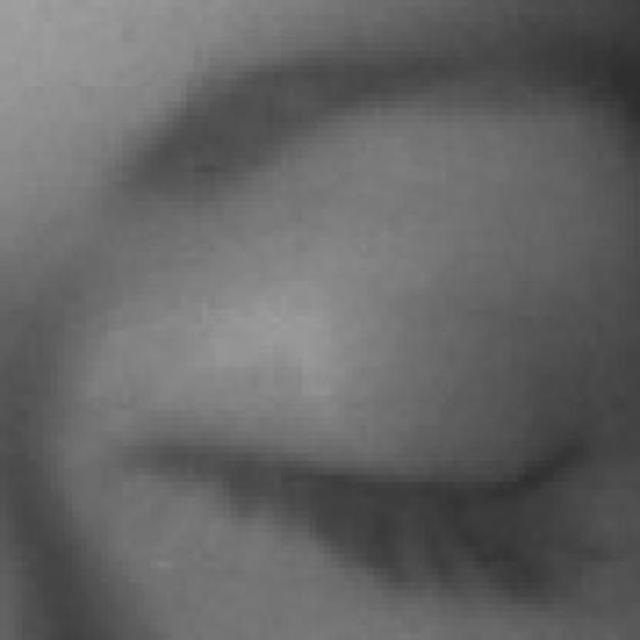drowsy: (136, 230, 619, 633)
